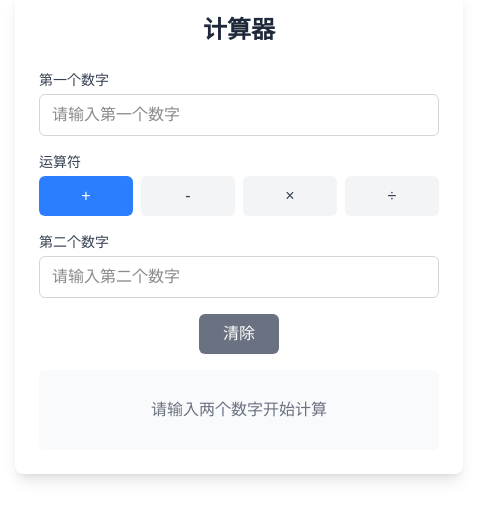
Test: Calculator Component › 应该实时处理API错误
The width and height of the screenshot is (479, 512).
Type "5" into the number field with placeholder "请输入第一个数字".
click(239, 115); type("5")  # box [39,94,439,136]
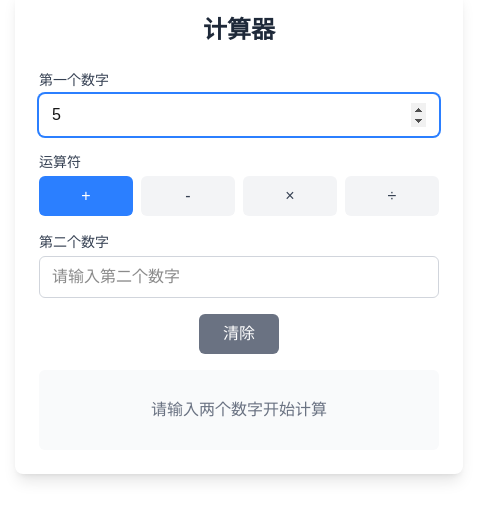
Type "3" into the number field with placeholder "请输入第二个数字".
click(239, 277); type("3")  # box [39,256,439,298]
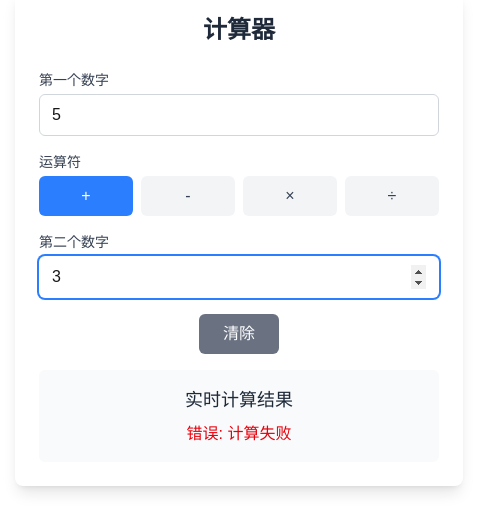
Expected: the text "错误: 计算失败" is shown, [185,422,293,446]
